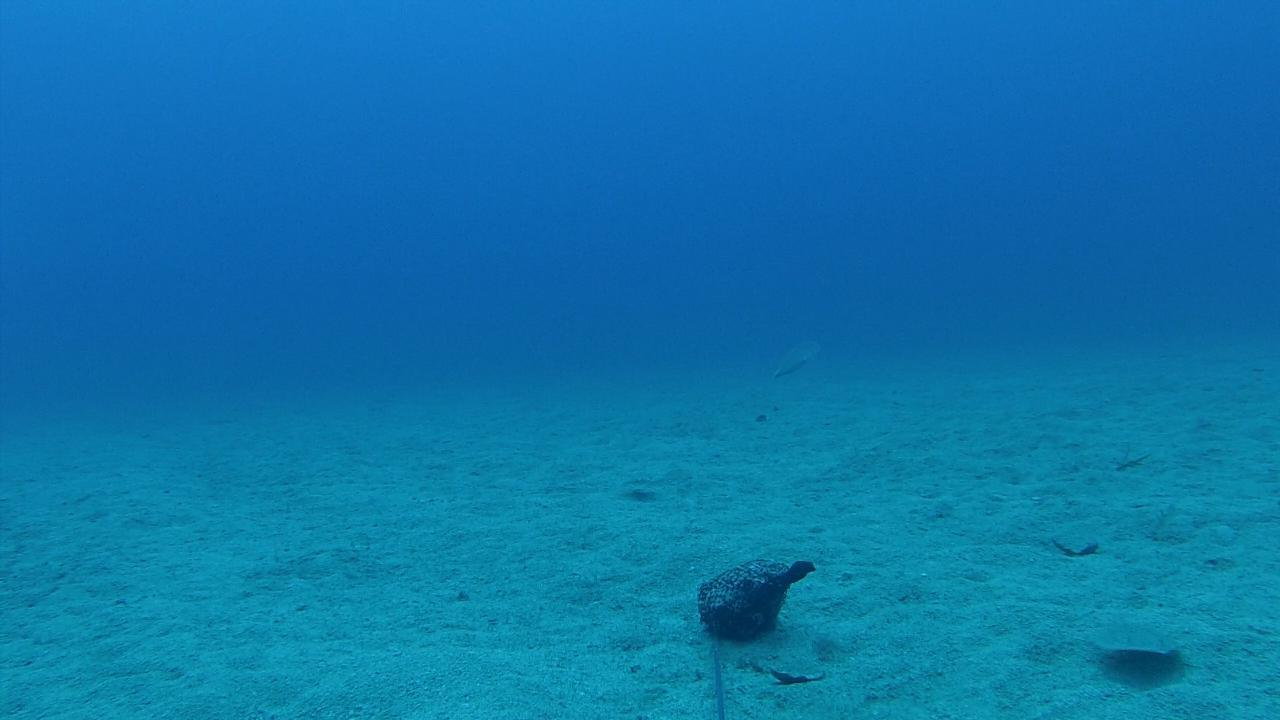bothus: (1081, 615, 1192, 662)
raor: (772, 340, 822, 376)
